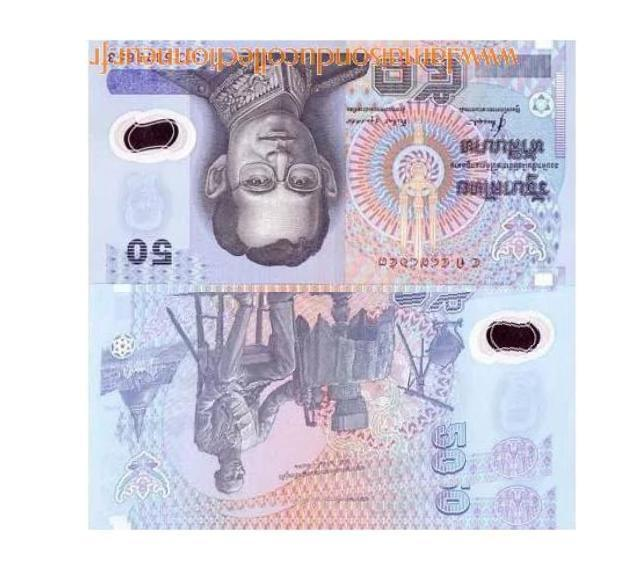50BahtTai: (94, 293, 573, 528)
